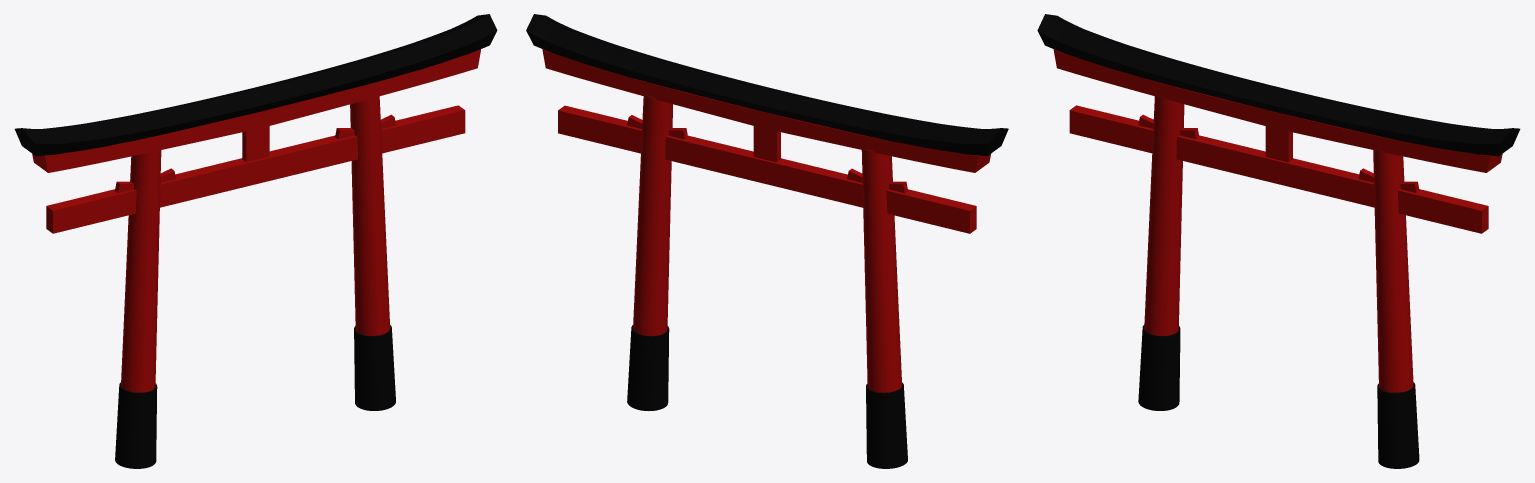
The model's file is torii.obj.
3 renders of one model, left to right at view 1: azimuth 30°, elevation 25°; view 2: azimuth 150°, elevation 25°; view 3: azimuth 330°, elevation 25°, orthographic.
Visible parts, largest first — view 1: 鳥居_立方体.000; view 2: 鳥居_立方体.000; view 3: 鳥居_立方体.000.
Part boxes in pixels (left/top/right/bottom): 鳥居_立方体.000: left=14, top=14, right=497, bottom=468; 鳥居_立方体.000: left=526, top=14, right=1008, bottom=468; 鳥居_立方体.000: left=1037, top=14, right=1520, bottom=468.
Size of the model in its own units: 2.75 by 2.03 by 0.2098.
